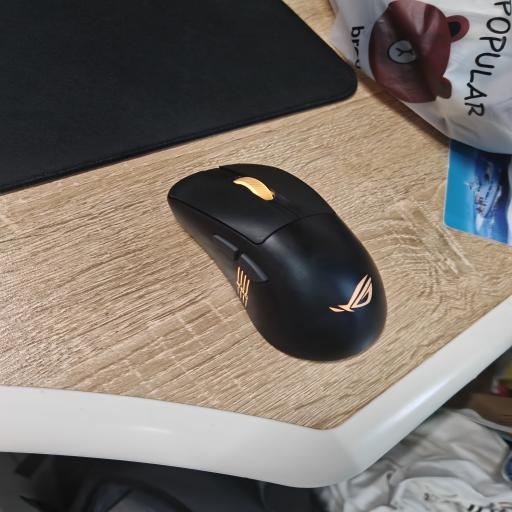mouse: (168, 164, 386, 361)
